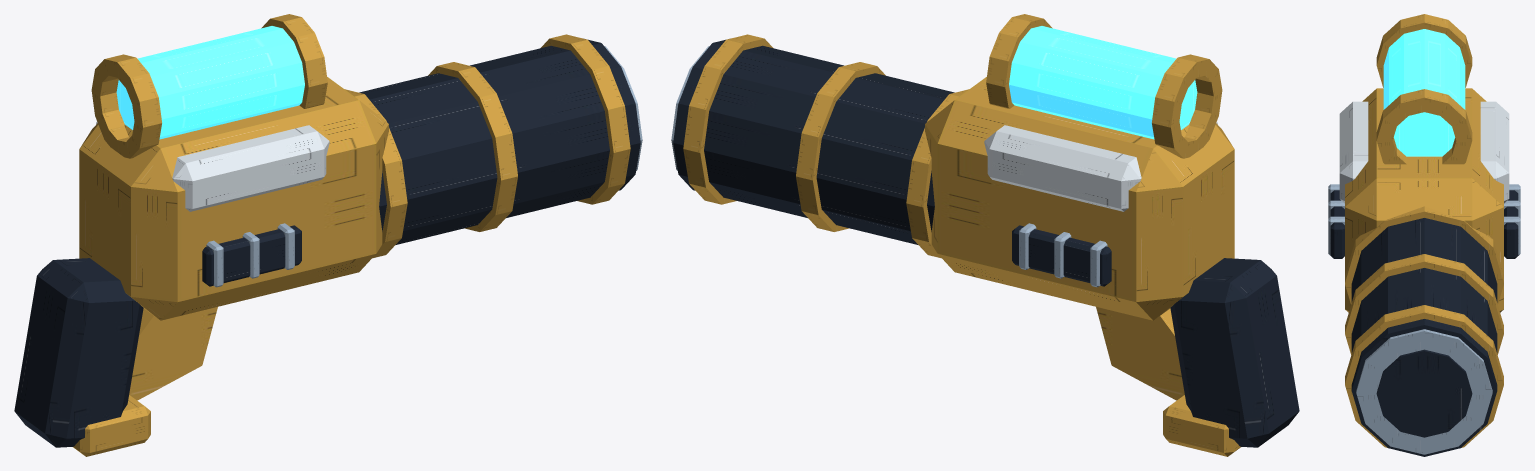
File: blaster.glb
3 views of the same model, side by side, from view 1: azimuth 30°, elevation 25°; view 2: azimuth 150°, elevation 25°; view 3: azimuth 270°, elevation 25° (orthographic). The views are drawn at different scales.
Visible parts, largest first — view 1: body, barrel, grip, core; view 2: body, barrel, grip, core; view 3: barrel, body, core.
Part boxes in pixels (x1,y1,x2,y2): body: (79,77,388,320); barrel: (344,34,642,258); grip: (14,258,217,456); core: (91,14,327,158); body: (925,77,1234,320); barrel: (671,34,969,258); grip: (1096,258,1299,456); core: (986,14,1222,158); barrel: (1345,206,1503,456); body: (1328,88,1520,312); core: (1376,14,1472,164).
Size of the model in its own units: 0.5455 by 0.3295 by 0.169.
Materials: 6 (6 with a texture image).
